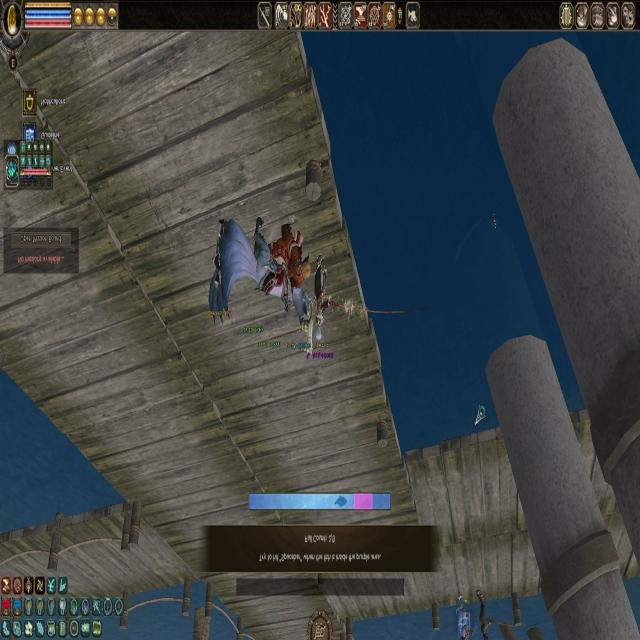fishes: (335, 493, 347, 511)
